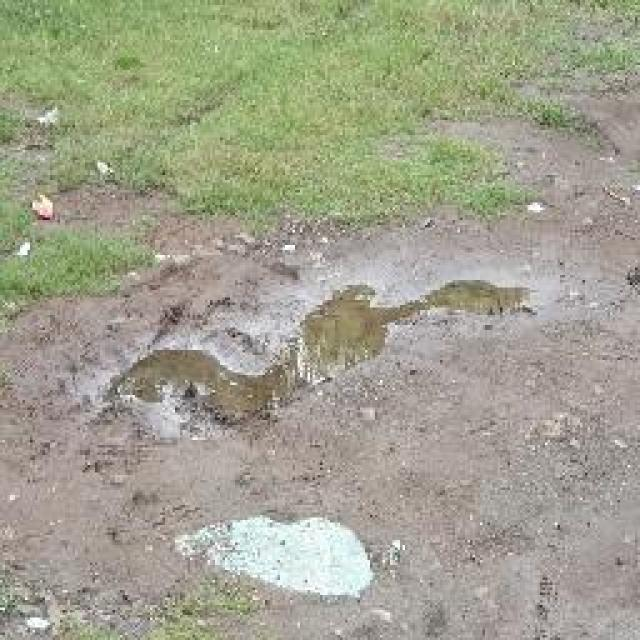stagnation: (79, 260, 579, 402)
